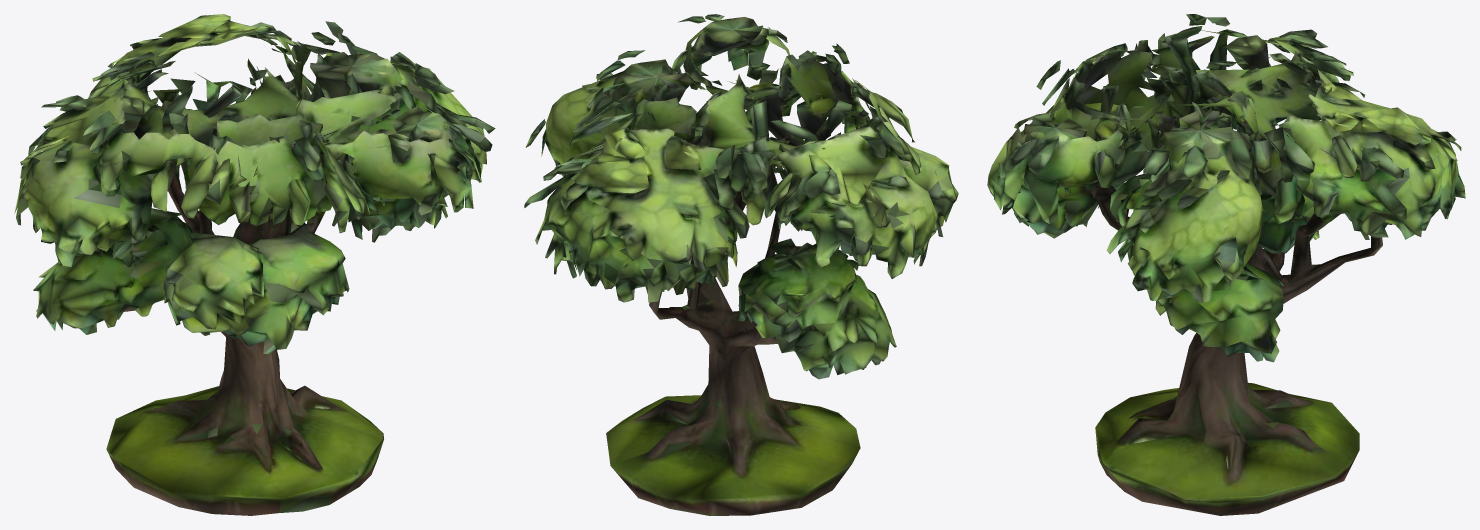
Rendered from arbol.glb.
The picture shows the model from 3 angles, left to right: view 1: azimuth 30°, elevation 25°; view 2: azimuth 150°, elevation 25°; view 3: azimuth 270°, elevation 25°; orthographic projection. The views are drawn at different scales.
Visible parts, largest first — view 1: Meshy_AI_tree_0825232132_texture; view 2: Meshy_AI_tree_0825232132_texture; view 3: Meshy_AI_tree_0825232132_texture.
Boxes of the visible parts, x1,y1,x2,y2 form: Meshy_AI_tree_0825232132_texture: (14,14,495,515); Meshy_AI_tree_0825232132_texture: (524,14,958,515); Meshy_AI_tree_0825232132_texture: (987,14,1465,515).
Size of the model in its own units: 2 by 1.8 by 1.96.
1 material, 1 textured.
